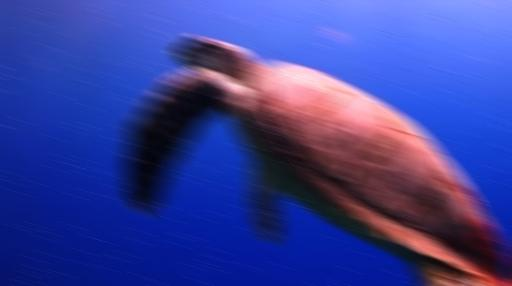Fish: (125, 35, 511, 285)
